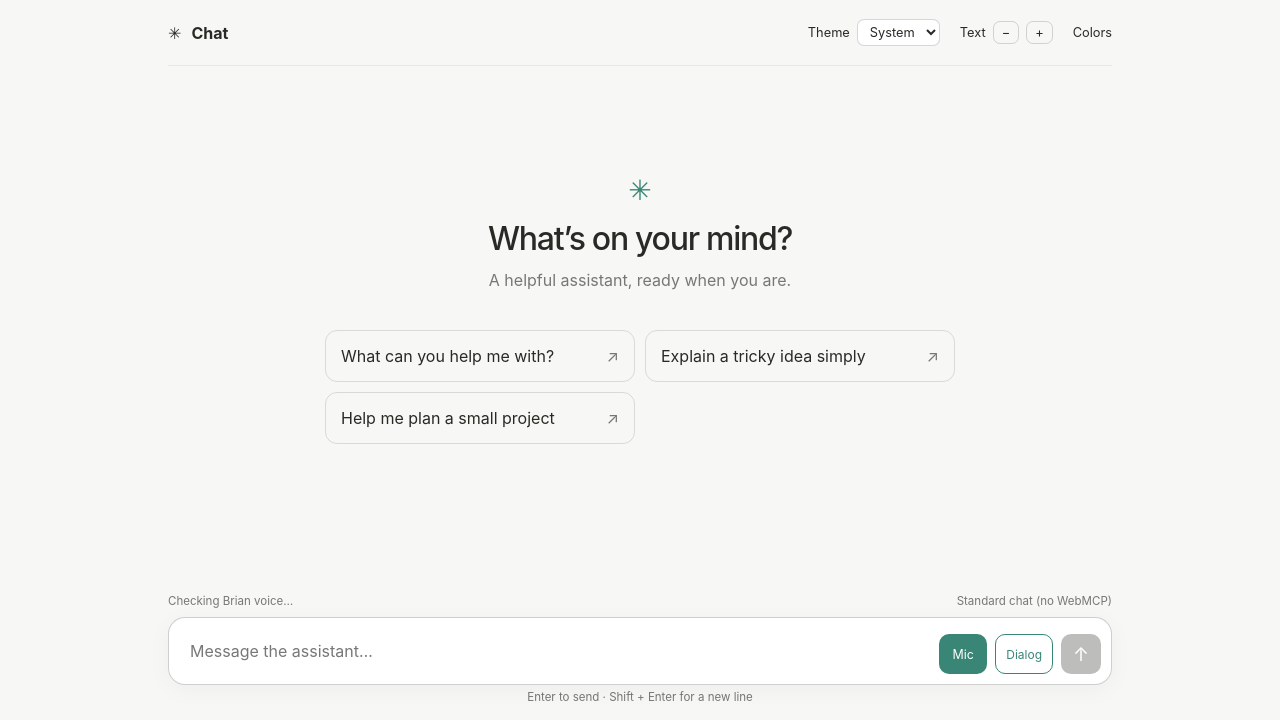
Scenario: Dialog integration › restores controls after provider failure and preserves the composer draft
Type "Unsent draft" into the text box labelled "Message" at (559, 651), box left=179, top=628, right=939, bottom=674
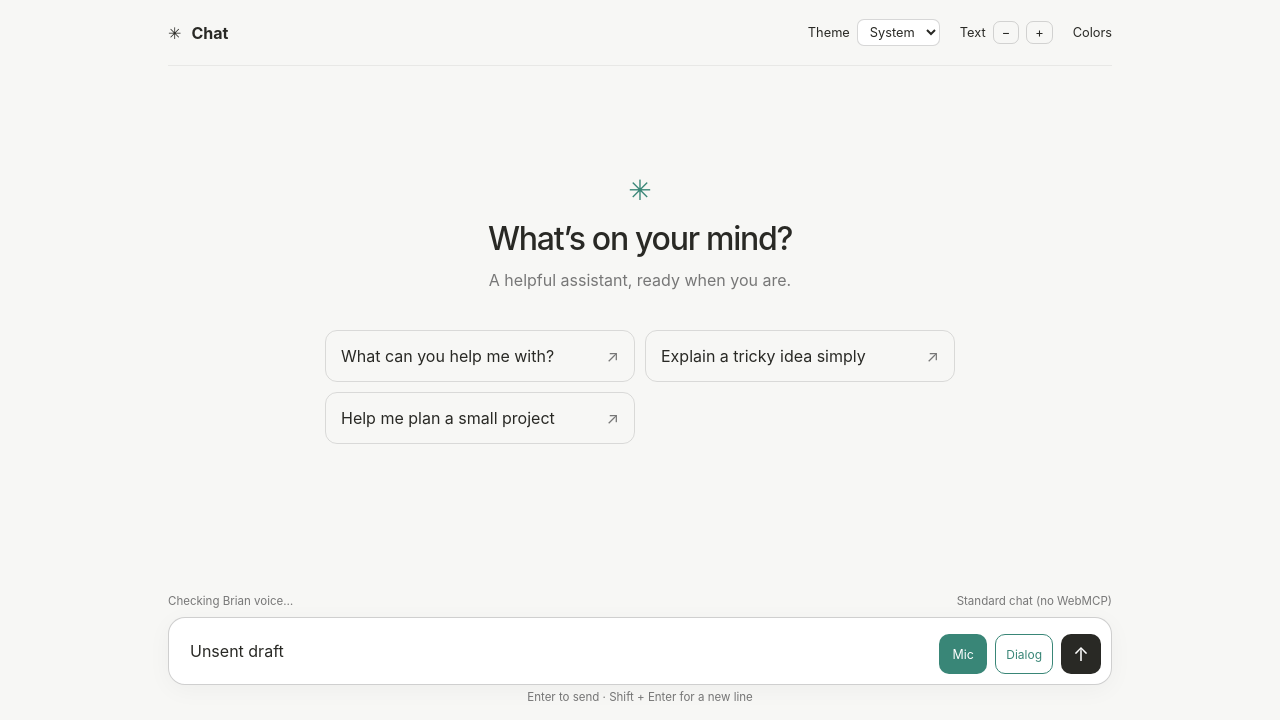
Click the button with aria-label "Start Dialog" at (1024, 654), box left=995, top=634, right=1053, bottom=674
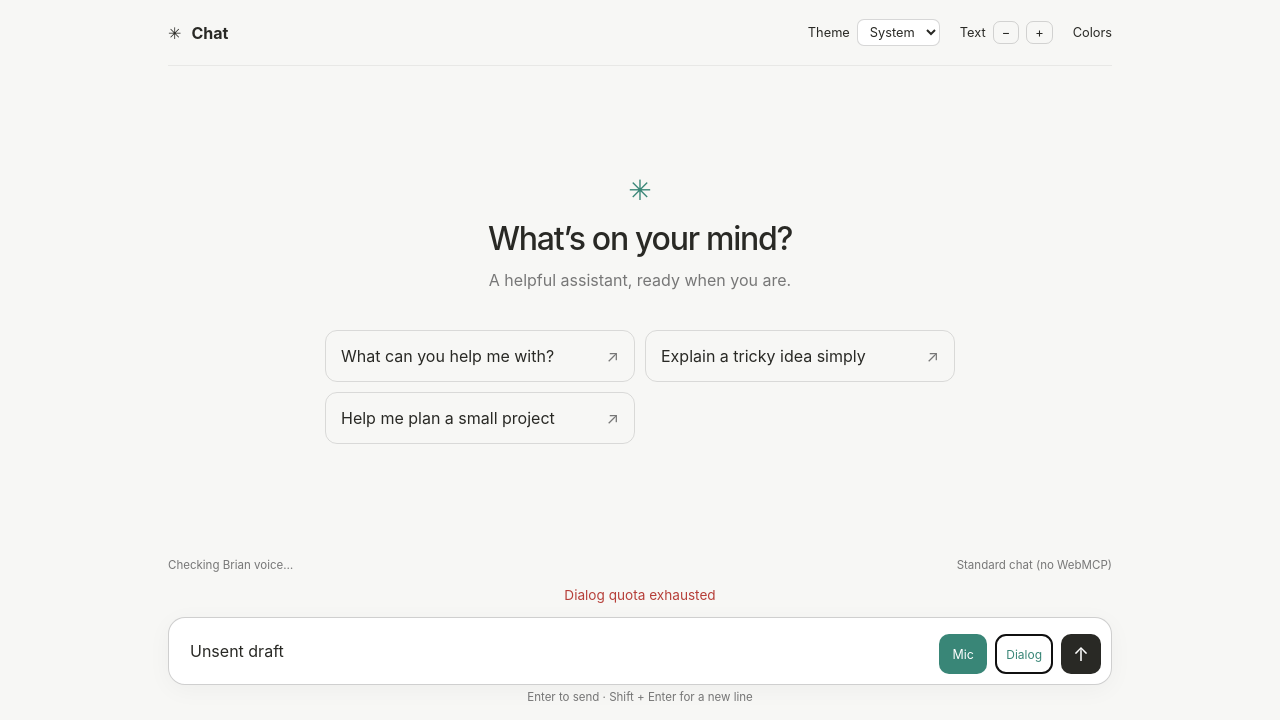
Now the text "Dialog quota exhausted" is shown, box left=564, top=587, right=716, bottom=603
